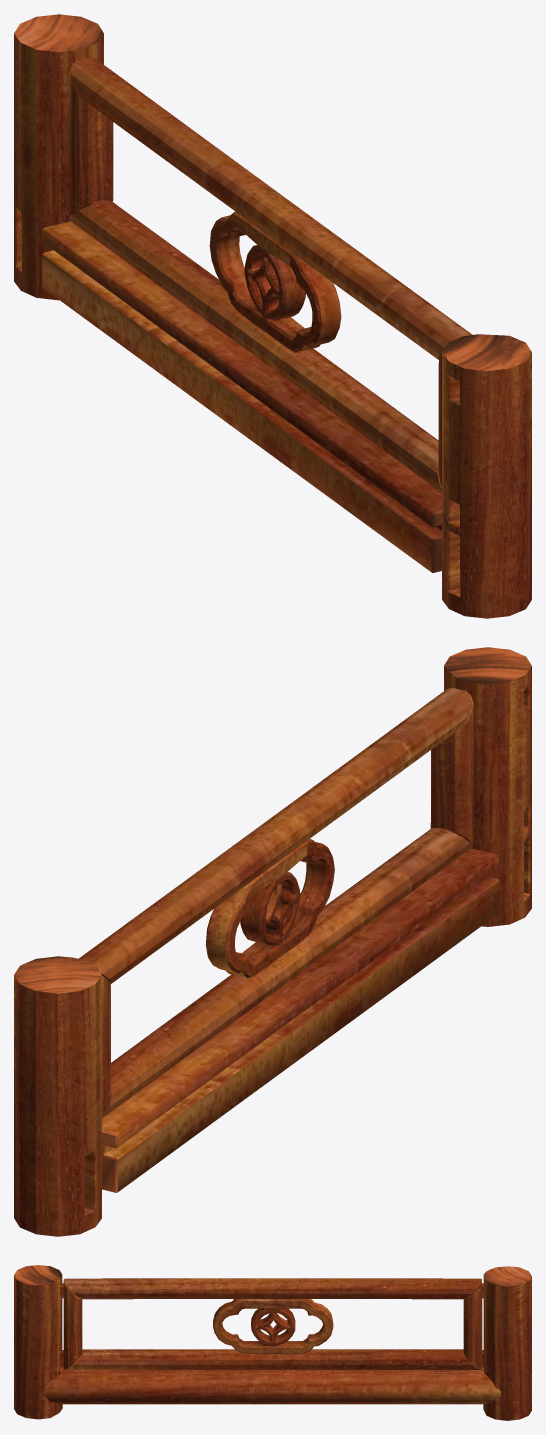
File: SJ_J_H_motou_1_01.FBX
3 renders of one model, top to bottom at view 1: azimuth 30°, elevation 25°; view 2: azimuth 150°, elevation 25°; view 3: azimuth 270°, elevation 25°, orthographic. The views are drawn at different scales.
Visible parts, largest first — view 1: SJ_J_motou_1_01; view 2: SJ_J_motou_1_01; view 3: SJ_J_motou_1_01.
Boxes of the visible parts, box(x1,y1,x2,y2) form: SJ_J_motou_1_01: box(14, 14, 531, 618); SJ_J_motou_1_01: box(14, 647, 531, 1236); SJ_J_motou_1_01: box(14, 1265, 531, 1420).
Bounding box in the file's own units: 4.27 × 12.31 × 42.96.
Materials: 2 (2 with a texture image).
